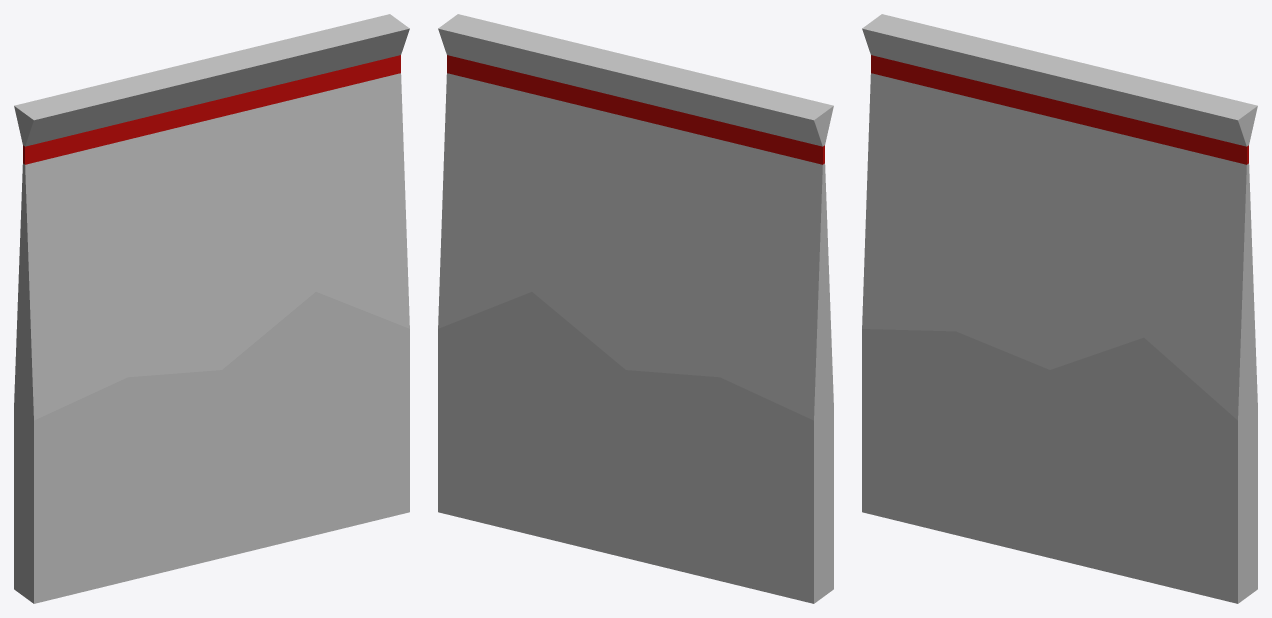
The model's file is Product.obj.
The picture shows the model from 3 angles, left to right: view 1: azimuth 30°, elevation 25°; view 2: azimuth 150°, elevation 25°; view 3: azimuth 330°, elevation 25°; orthographic projection.
Parts seen in each view (by area): view 1: Cube; view 2: Cube; view 3: Cube.
Boxes of the visible parts, box(x1,y1,x2,y2) form: Cube: box(14, 14, 409, 603); Cube: box(438, 14, 833, 603); Cube: box(862, 14, 1257, 603).
Size of the model in its own units: 2 by 2.46 by 0.184.
